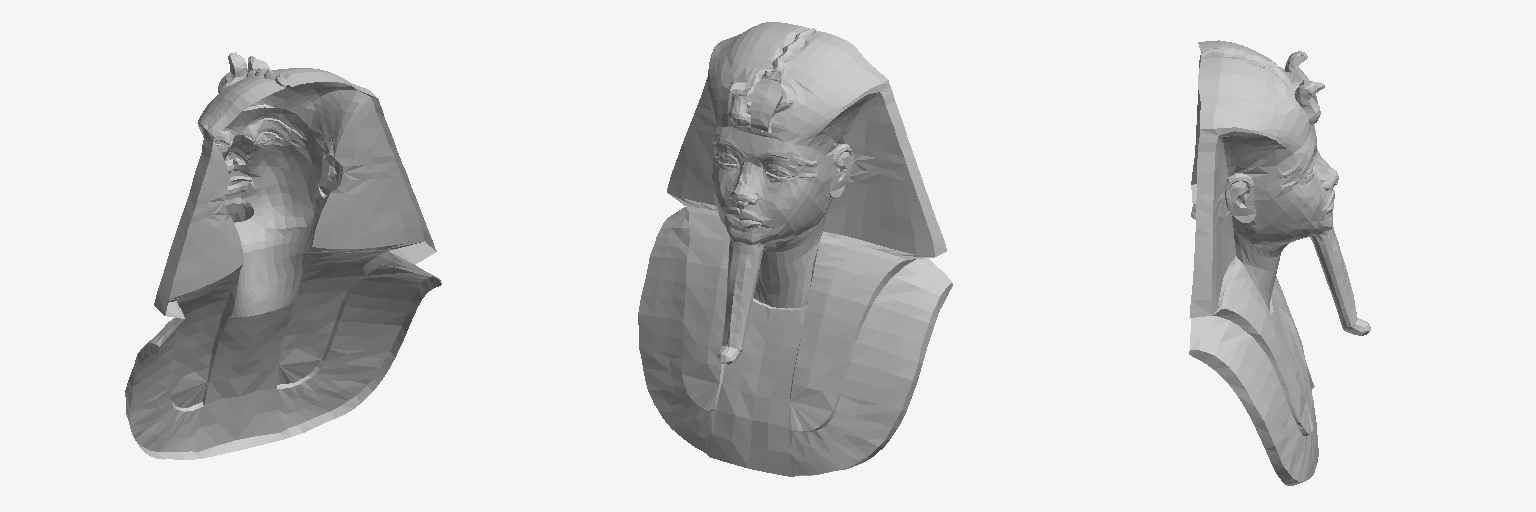
File: TUT.obj
3 views of the same model, side by side, from view 1: azimuth 30°, elevation 25°; view 2: azimuth 150°, elevation 25°; view 3: azimuth 270°, elevation 25° (orthographic).
Size of the model in its own units: 15.48 by 21.42 by 8.69.